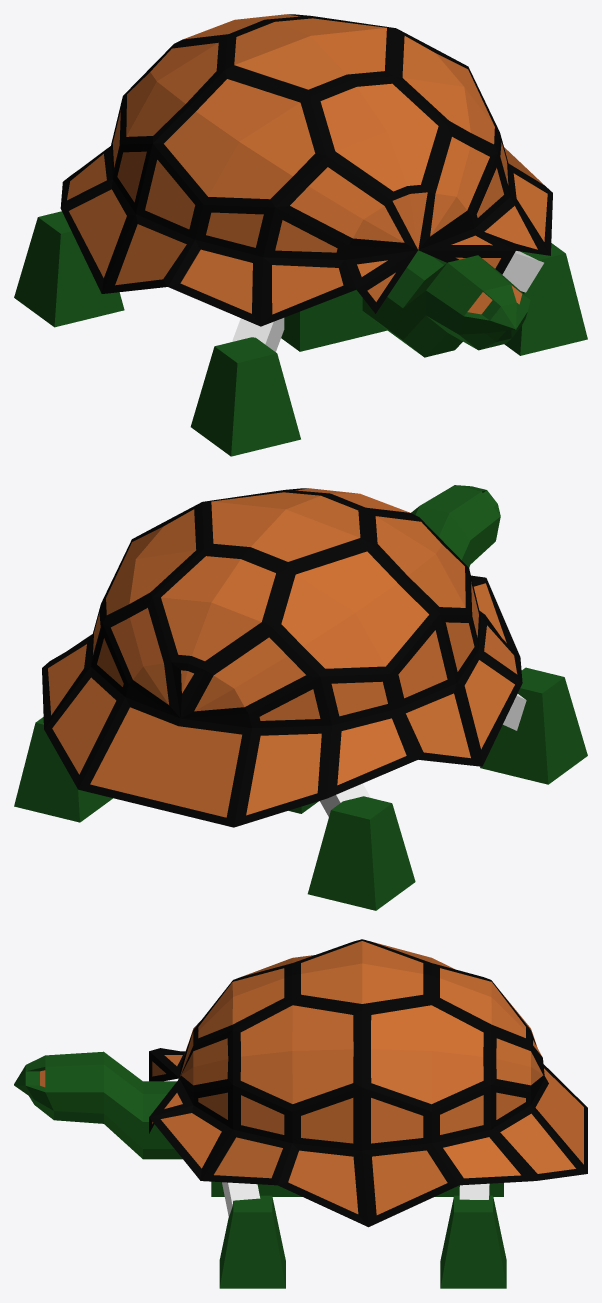
File: turtle_toon.glb
3 renders of one model, top to bottom at view 1: azimuth 30°, elevation 25°; view 2: azimuth 150°, elevation 25°; view 3: azimuth 270°, elevation 25°, orthographic. The views are drawn at different scales.
Visible parts, largest first — view 1: Sphere, neck, front_right, rear_right, front_left, base_core, Cube, Cube.002; view 2: Sphere, rear_right, front_right, rear_left, neck, Cube.003; view 3: Sphere, neck, front_left, rear_left, base_core, Cube, Cube.001.
Part boxes in pixels (x1,y1,x2,y2): Sphere: (60,14,552,326); neck: (362,250,530,357); front_right: (190,337,300,456); rear_right: (14,211,124,327); front_left: (504,243,587,355); base_core: (281,257,446,351); Cube: (502,251,543,292); Cube.002: (232,318,284,351); Sphere: (42,488,522,827); rear_right: (307,796,415,910); front_right: (480,667,587,784); rear_left: (14,717,112,822); neck: (411,485,500,567); Cube.003: (320,783,370,816); Sphere: (149,939,587,1227); neck: (14,1051,182,1159); front_left: (219,1195,285,1288); rear_left: (440,1195,506,1288); base_core: (211,1181,503,1196); Cube: (222,1182,260,1216); Cube.001: (459,1183,489,1199).
Size of the model in its own units: 10.29 by 6.93 by 14.7.
